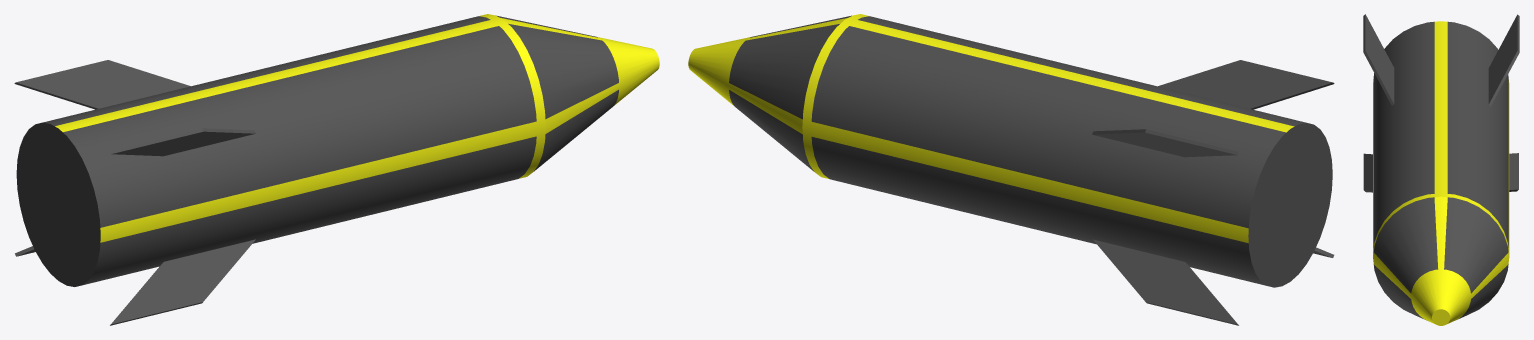
Rendered from rocketdan.fbx.
The picture shows the model from 3 angles, left to right: view 1: azimuth 30°, elevation 25°; view 2: azimuth 150°, elevation 25°; view 3: azimuth 270°, elevation 25°; orthographic projection. The views are drawn at different scales.
Visible parts, largest first — view 1: 円柱; view 2: 円柱; view 3: 円柱.
Part boxes in pixels (x1,y1,x2,y2): 円柱: (14, 14, 659, 325); 円柱: (688, 14, 1334, 325); 円柱: (1363, 14, 1519, 325).
Size of the model in its own units: 68.35 by 19.23 by 19.23.
